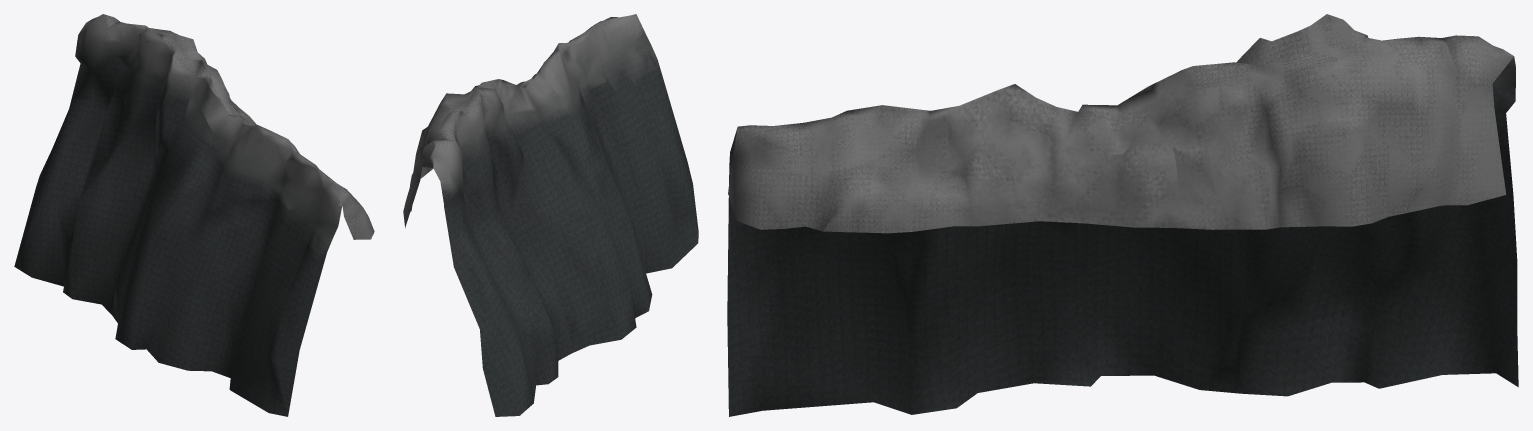
The model's file is clod_terrain_04_04_clod_004.gltf.
3 views of the same model, side by side, from view 1: azimuth 30°, elevation 25°; view 2: azimuth 150°, elevation 25°; view 3: azimuth 270°, elevation 25° (orthographic). The views are drawn at different scales.
Visible parts, largest first — view 1: um_clod_terrain_04_04_clod_004_0_Shape1:aggregation_mat; view 2: um_clod_terrain_04_04_clod_004_0_Shape1:aggregation_mat; view 3: um_clod_terrain_04_04_clod_004_0_Shape1:aggregation_mat.
Part boxes in pixels (bbox=[...]): um_clod_terrain_04_04_clod_004_0_Shape1:aggregation_mat: bbox=[14, 14, 374, 416]; um_clod_terrain_04_04_clod_004_0_Shape1:aggregation_mat: bbox=[403, 14, 698, 416]; um_clod_terrain_04_04_clod_004_0_Shape1:aggregation_mat: bbox=[727, 14, 1518, 416].
Size of the model in its own units: 237 by 376 by 620.
1 material, 1 textured.
